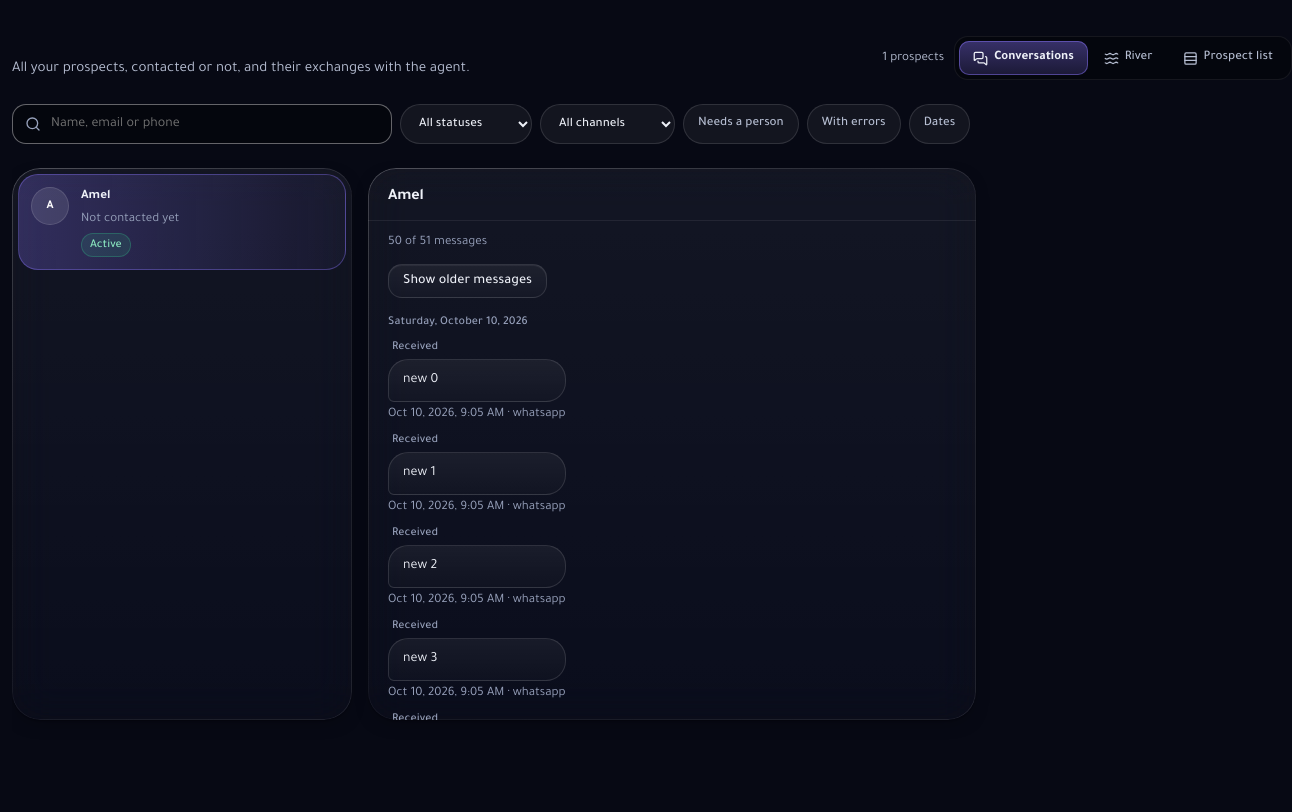
Test: Conversations (thread) › opens on the latest messages and loads older ones on request
The width and height of the screenshot is (1292, 812).
Expected: the list item with test id "message-n0" is shown, [388,341,566,421]
Expected: the text with test id "thread-count" shows "50 of 51", [388,236,487,249]
Step 1. Click the button "Show older messages" → (468, 281), box [388,264,547,298]
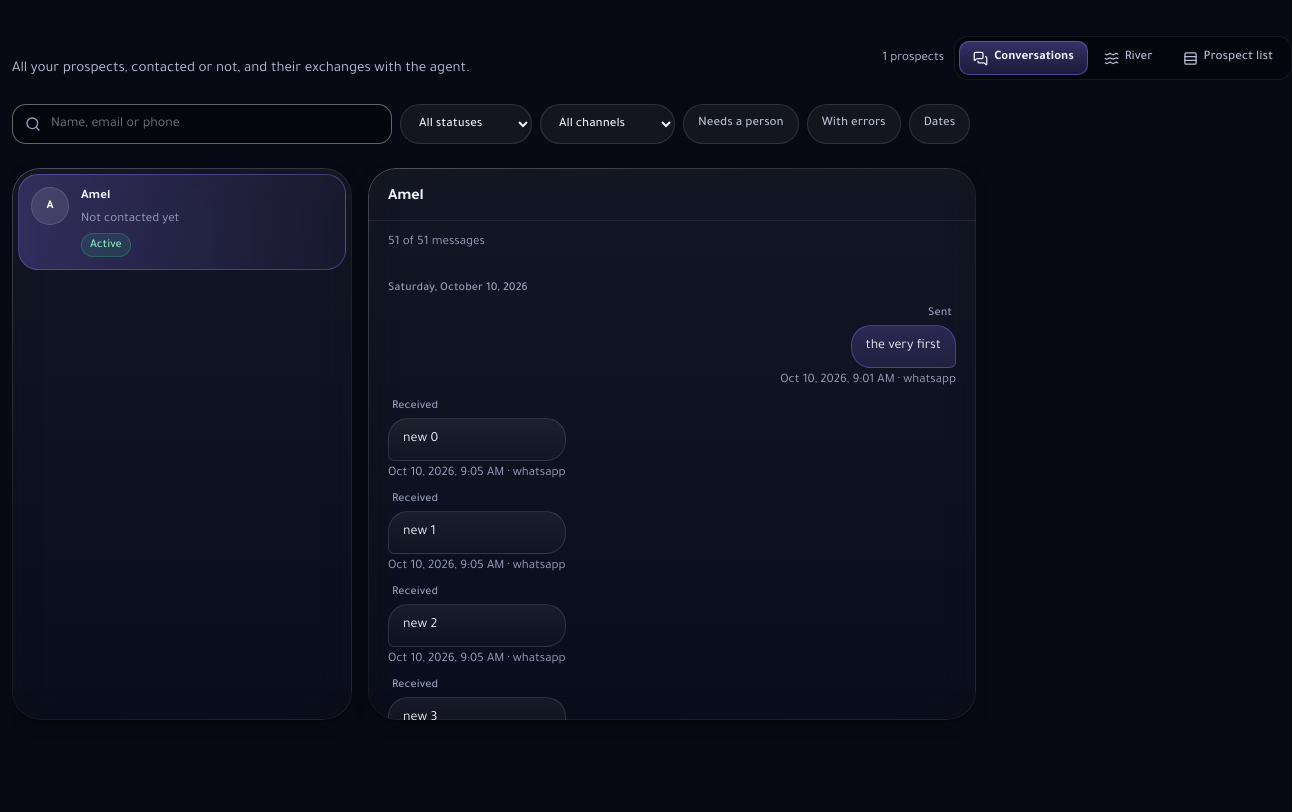
Expected: the button "Show older messages" is gone
